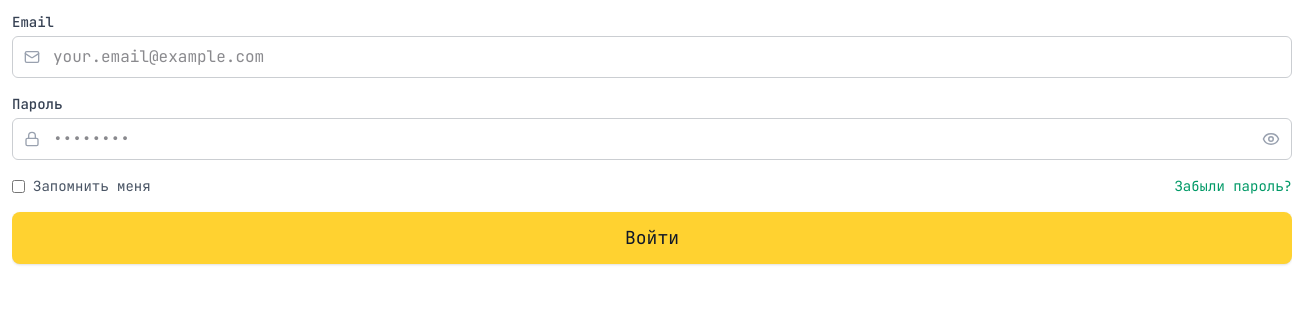
Test: LoginForm › валидирует email
Click the button "Войти" at (652, 238), box [12, 212, 1292, 264]
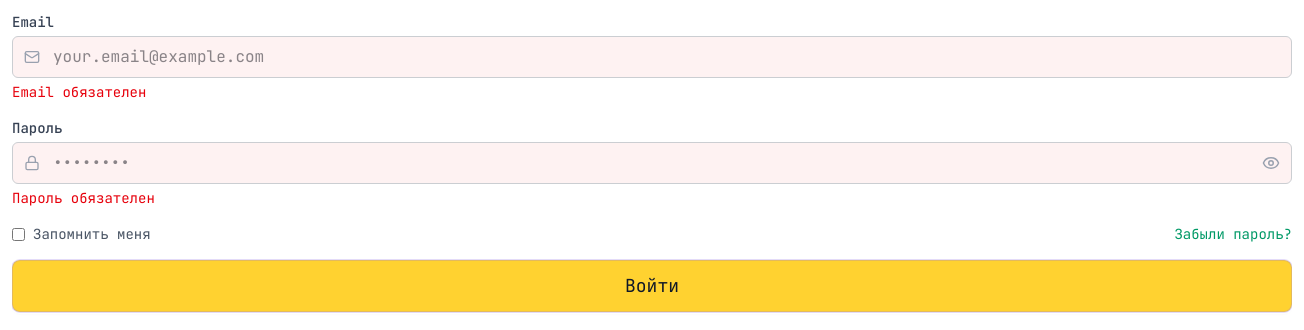
Check: the text "Email обязателен" is shown, box [12, 83, 146, 101]
